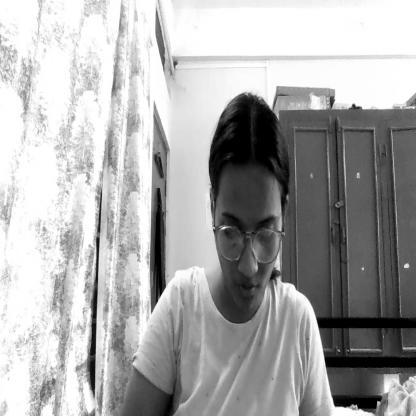Normal: (212, 92, 288, 317)
